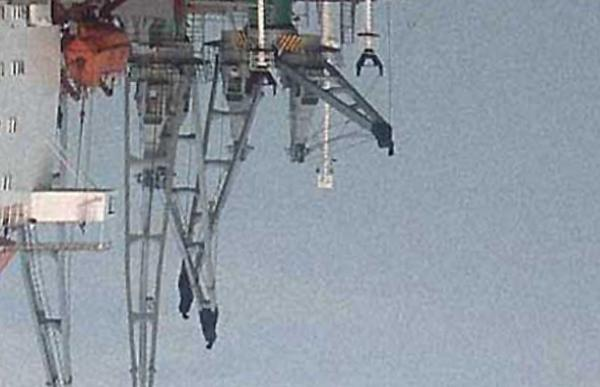rust: (66, 22, 134, 84), (50, 1, 117, 19)
